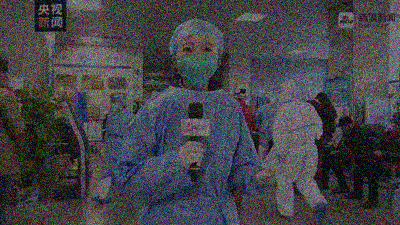with_mask: (175, 40, 220, 86), (3, 72, 12, 89), (388, 122, 400, 133), (112, 101, 123, 112), (341, 125, 352, 136)
